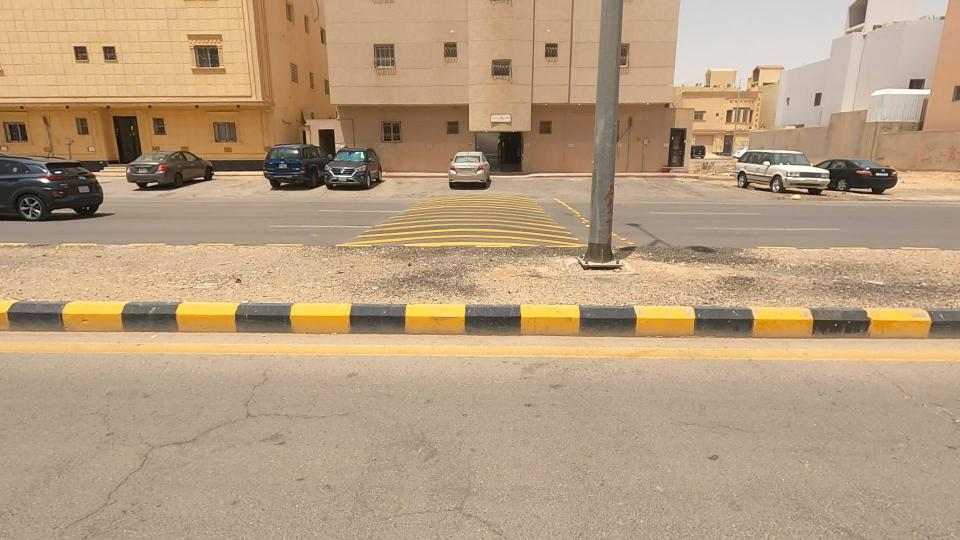CLUTTER_SIDEWALK: (0, 203, 595, 345), (524, 202, 960, 350)
